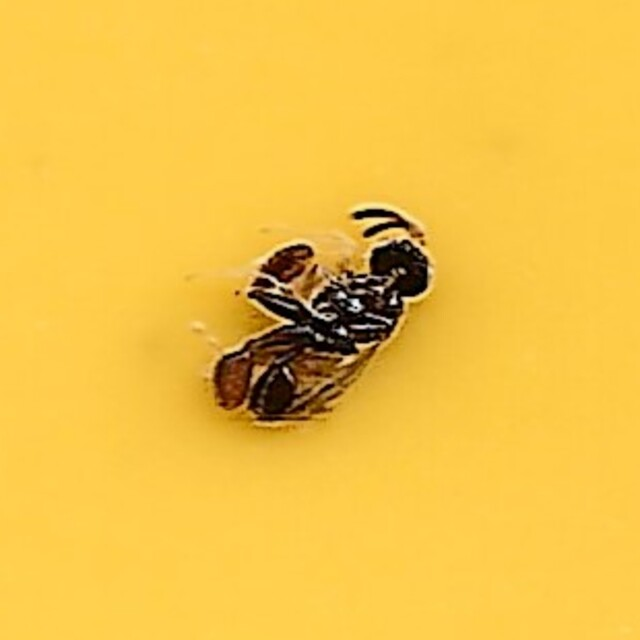Hymenoptera: (206, 203, 434, 437)
